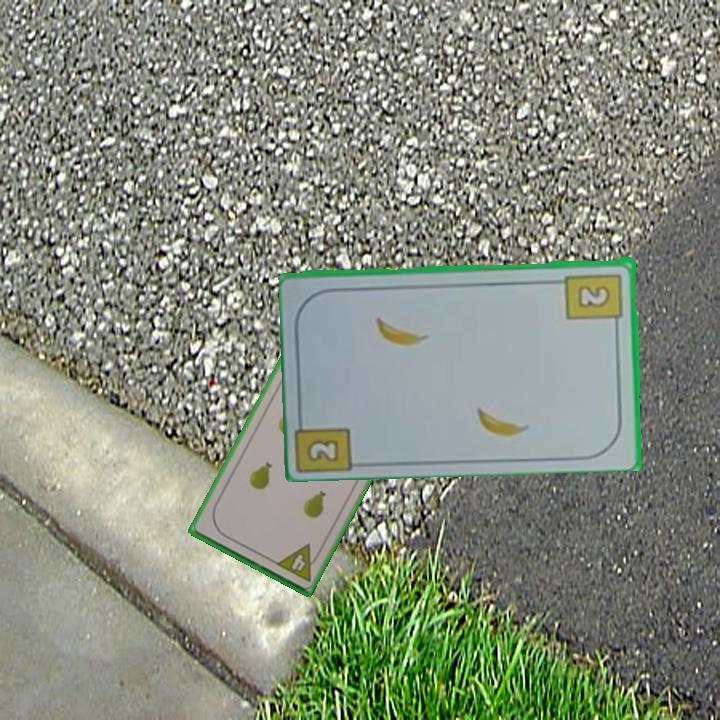2b: (295, 408, 358, 473), (563, 269, 625, 330)
4p: (272, 540, 324, 584)
